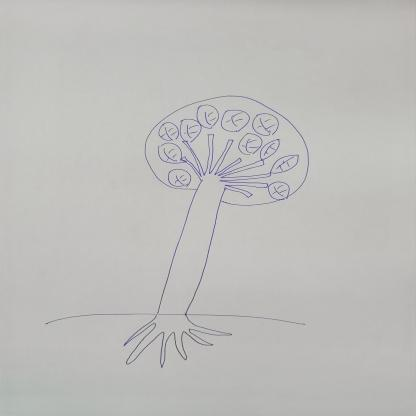branch_cut: (179, 134, 270, 198)
crown_mushroom: (144, 96, 310, 206)
root_under: (121, 306, 233, 368)
trunk_reflex: (150, 202, 219, 312)
